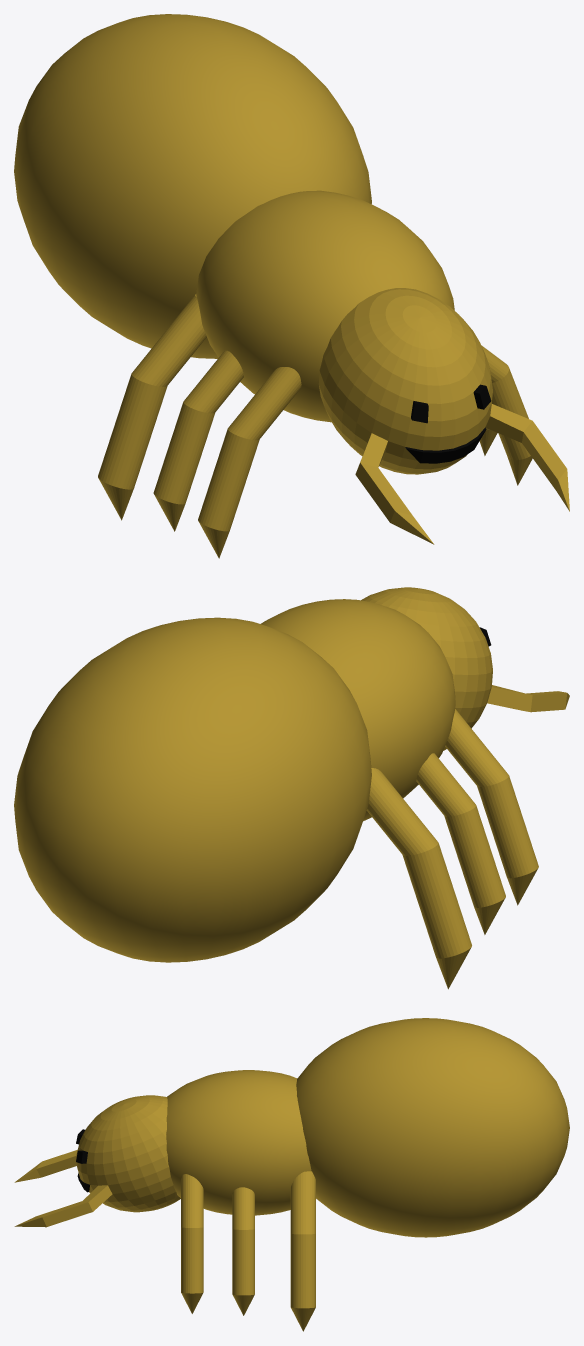
Rendered from Model_Defender_Basic.fbx.
The picture shows the model from 3 angles, top to bottom: view 1: azimuth 30°, elevation 25°; view 2: azimuth 150°, elevation 25°; view 3: azimuth 270°, elevation 25°; orthographic projection. The views are drawn at different scales.
Parts seen in each view (by area): view 1: Sphere, Sphere.001, Sphere.002, Cylinder; view 2: Sphere, Cylinder, Sphere.001, Sphere.002; view 3: Sphere, Sphere.001, Sphere.002, Cylinder.
Part boxes in pixels (<box>): Sphere: <box>14,14,371,358</box>; Sphere.001: <box>196,190,454,422</box>; Sphere.002: <box>318,288,569,544</box>; Cylinder: <box>98,294,532,558</box>; Sphere: <box>14,617,371,962</box>; Cylinder: <box>366,709,538,989</box>; Sphere.001: <box>261,599,455,820</box>; Sphere.002: <box>361,587,569,750</box>; Sphere: <box>296,1018,569,1237</box>; Sphere.001: <box>166,1070,311,1215</box>; Sphere.002: <box>14,1095,180,1227</box>; Cylinder: <box>181,1171,315,1331</box>.
Size of the model in its own units: 258 by 252 by 506.
